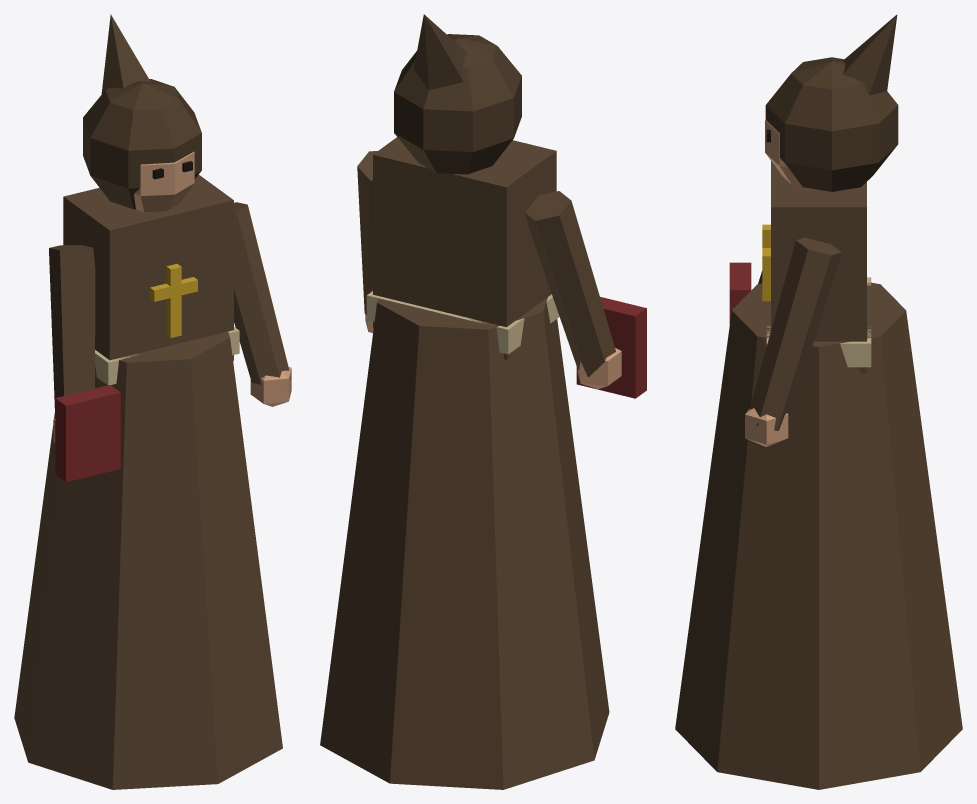
The model's file is moench.glb.
3 renders of one model, left to right at view 1: azimuth 30°, elevation 25°; view 2: azimuth 150°, elevation 25°; view 3: azimuth 270°, elevation 25°, orthographic. The views are drawn at different scales.
Bounding box in the file's own units: 0.675 × 1.81 × 0.66.
1 material, 1 textured.
